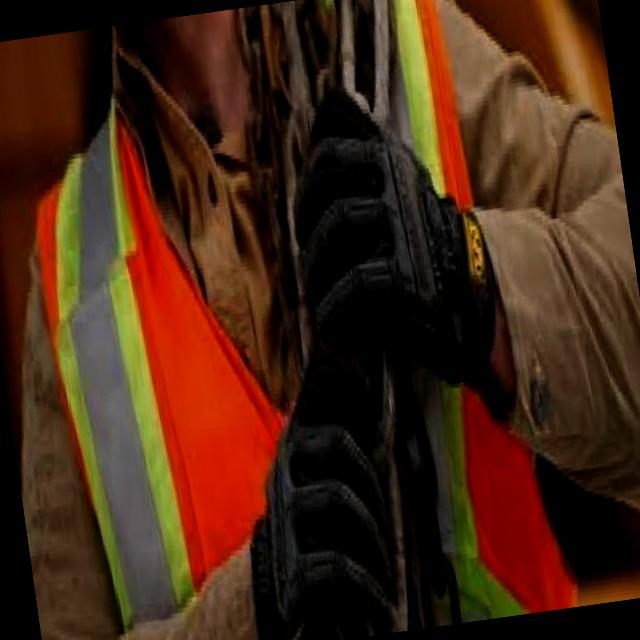vest: (9, 0, 569, 640)
